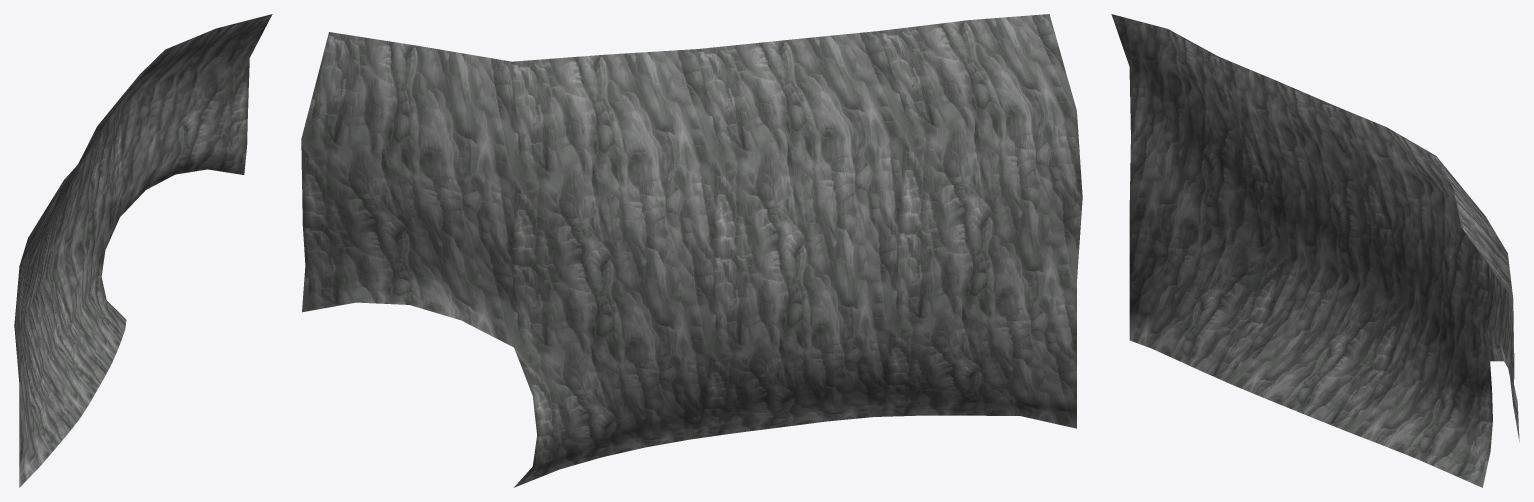
The model's file is SWORDLIGHT20_PS-AREA04_22.fbx.
3 views of the same model, side by side, from view 1: azimuth 30°, elevation 25°; view 2: azimuth 150°, elevation 25°; view 3: azimuth 270°, elevation 25° (orthographic). The views are drawn at different scales.
Visible parts, largest first — view 1: SWORDLIGHT20_PS-AREA04_22; view 2: SWORDLIGHT20_PS-AREA04_22; view 3: SWORDLIGHT20_PS-AREA04_22.
Boxes of the visible parts, <box> form: SWORDLIGHT20_PS-AREA04_22: <box>14,14,272,487</box>; SWORDLIGHT20_PS-AREA04_22: <box>301,14,1082,487</box>; SWORDLIGHT20_PS-AREA04_22: <box>1111,14,1519,487</box>.
Size of the model in its own units: 148400 by 102429 by 108473.
1 material, 1 textured.
